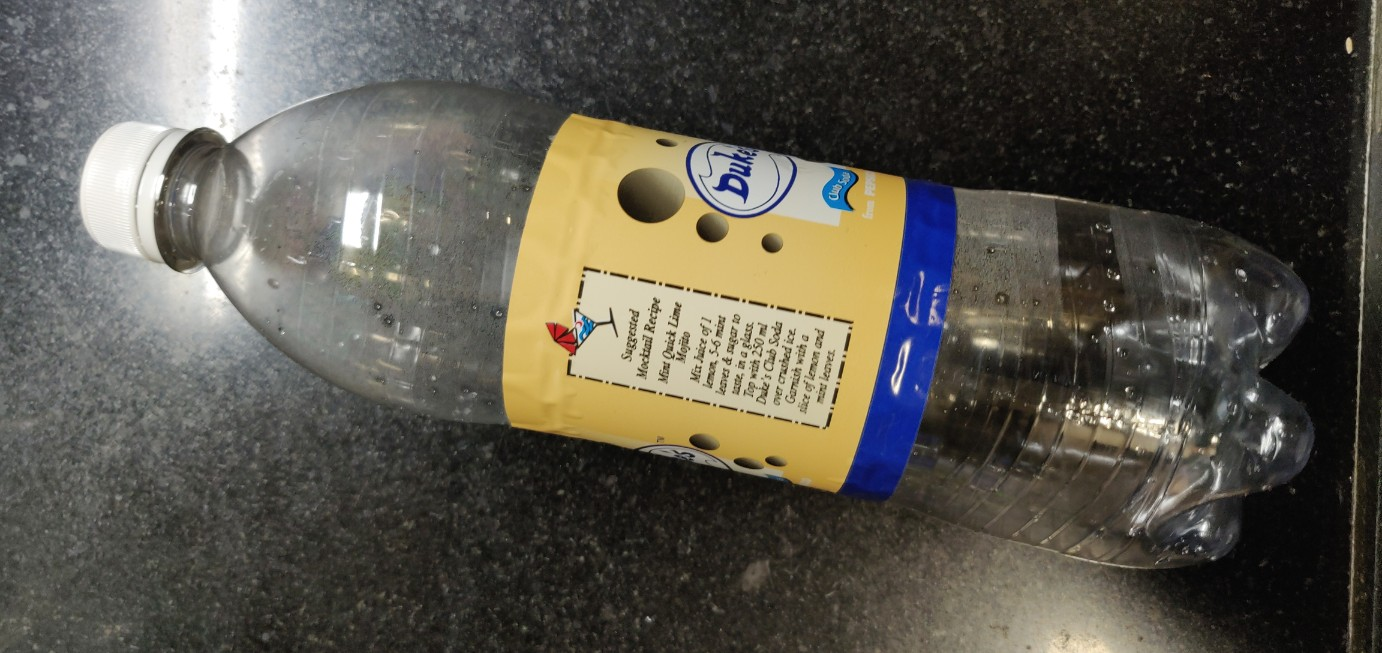Electronics: (63, 58, 1354, 627)
